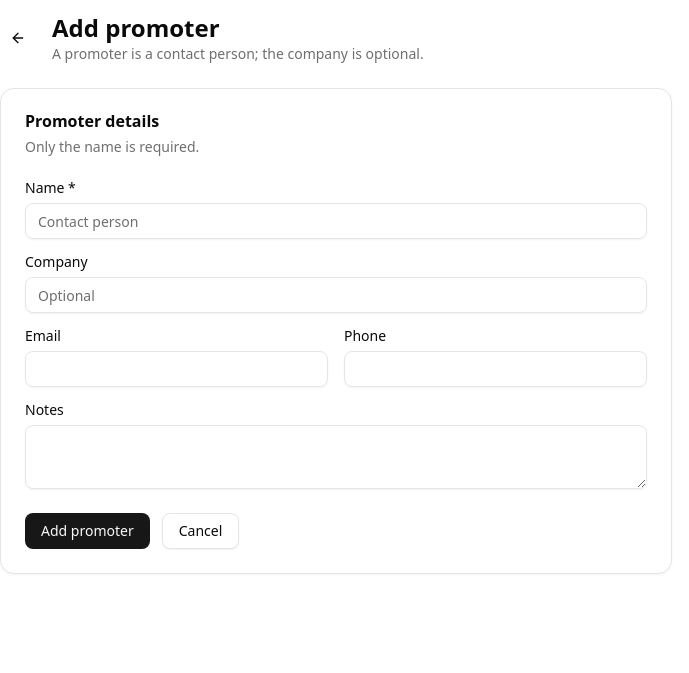
Test: does not claim a result when the save call itself fails, and blocks duplicate submits meanwhile
The width and height of the screenshot is (689, 673).
Type "Marta Rossi" into the field labelled "Name *" at coordinates (336, 221), box [25, 203, 647, 239]
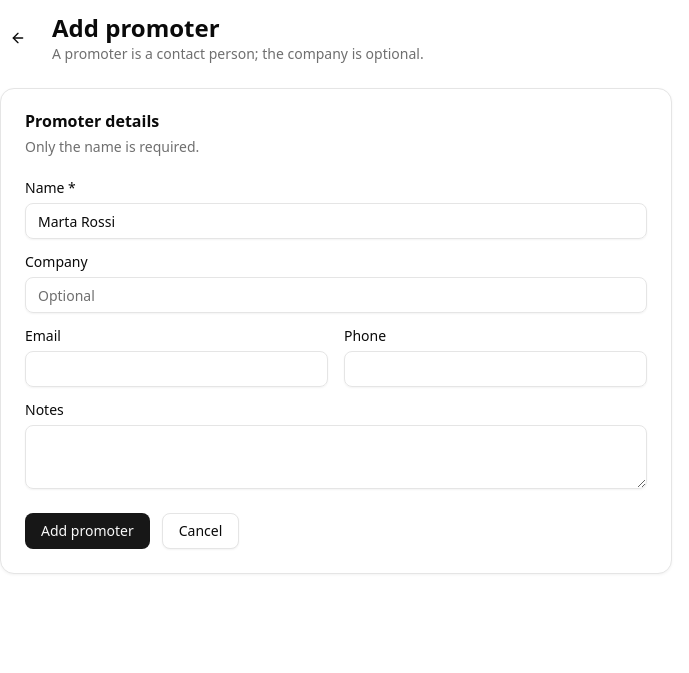
Click the button "Add promoter" at coordinates (87, 531), box [25, 513, 150, 549]
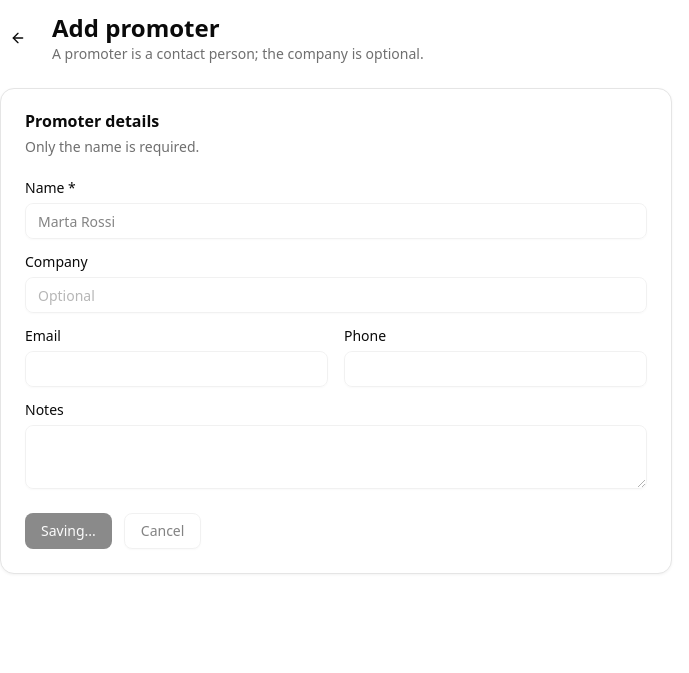
Result: the button "Saving..." is disabled
Click the button "Saving..." at coordinates (68, 531), box [25, 513, 112, 549]
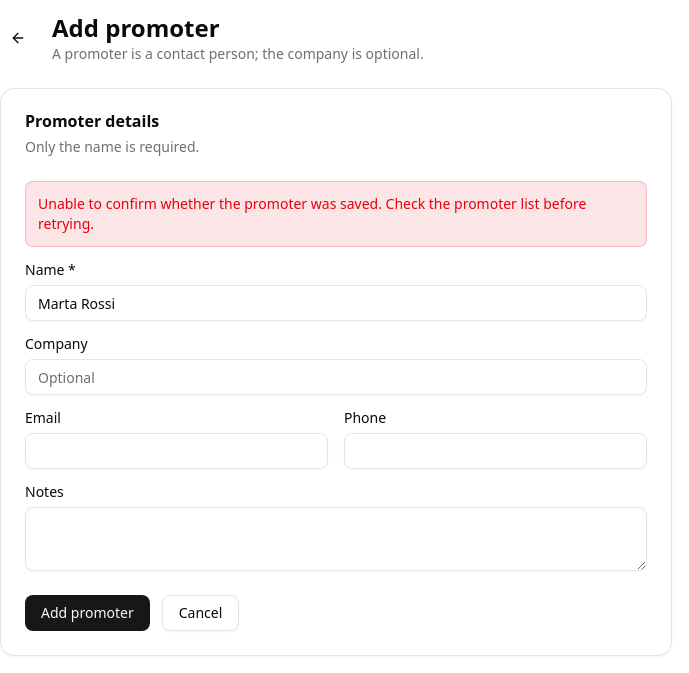
Result: the message shows "Unable to confirm whether the promoter was saved" at [38, 194, 586, 233]
